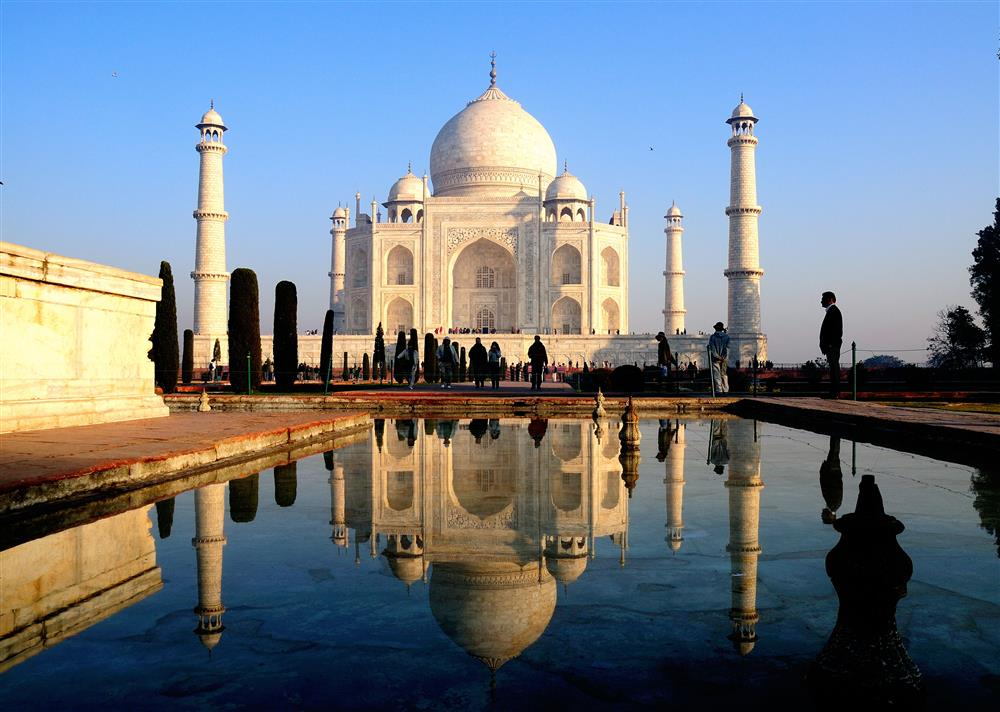Taj_Mahal: (185, 45, 772, 368)
